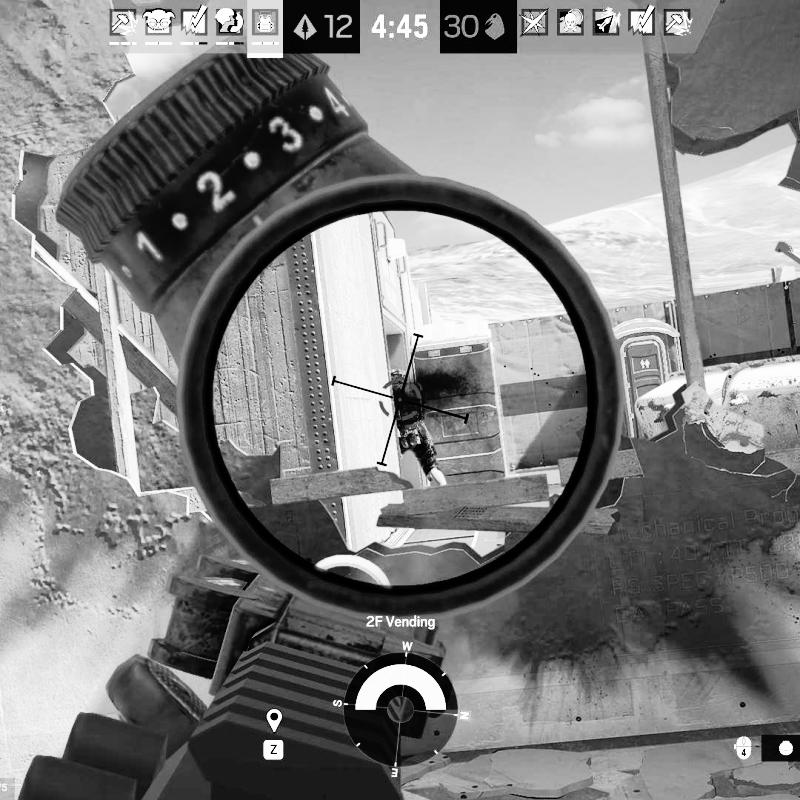Character: (382, 365, 448, 491)
Head: (388, 368, 407, 383)
